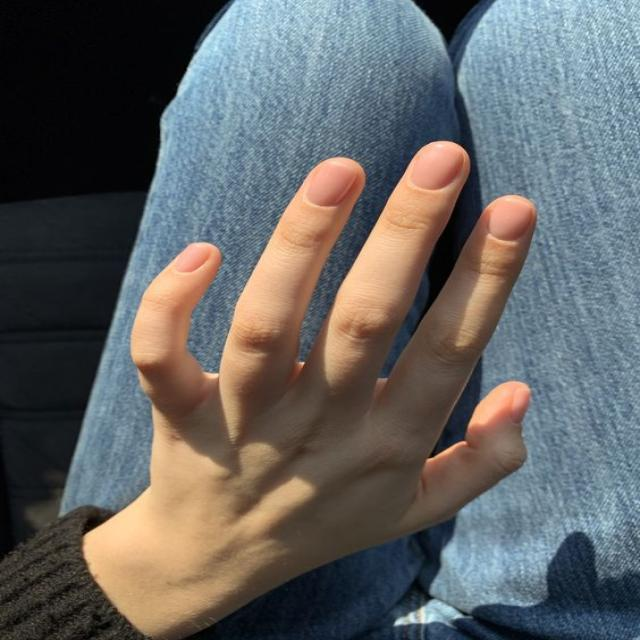Fingernail: (409, 144, 461, 189), (307, 164, 354, 208), (487, 201, 531, 244), (173, 244, 210, 275), (512, 389, 531, 426)
